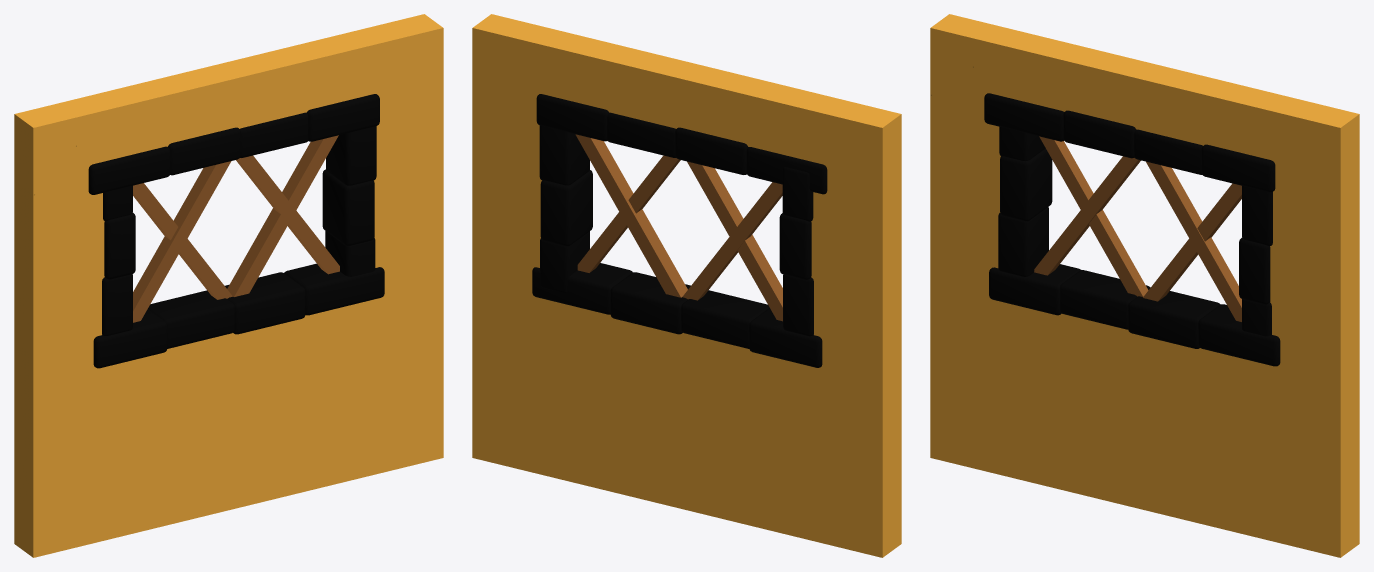
Rendered from Wall 2.fbx.
3 renders of one model, left to right at view 1: azimuth 30°, elevation 25°; view 2: azimuth 150°, elevation 25°; view 3: azimuth 330°, elevation 25°, orthographic.
Parts seen in each view (by area): view 1: Wall 2; view 2: Wall 2; view 3: Wall 2.
Part boxes in pixels (bbox=[...]): Wall 2: bbox=[14, 14, 443, 557]; Wall 2: bbox=[472, 14, 901, 557]; Wall 2: bbox=[930, 14, 1359, 557].
Size of the model in its own units: 249 by 249 by 26.94.
1 material, 1 textured.
